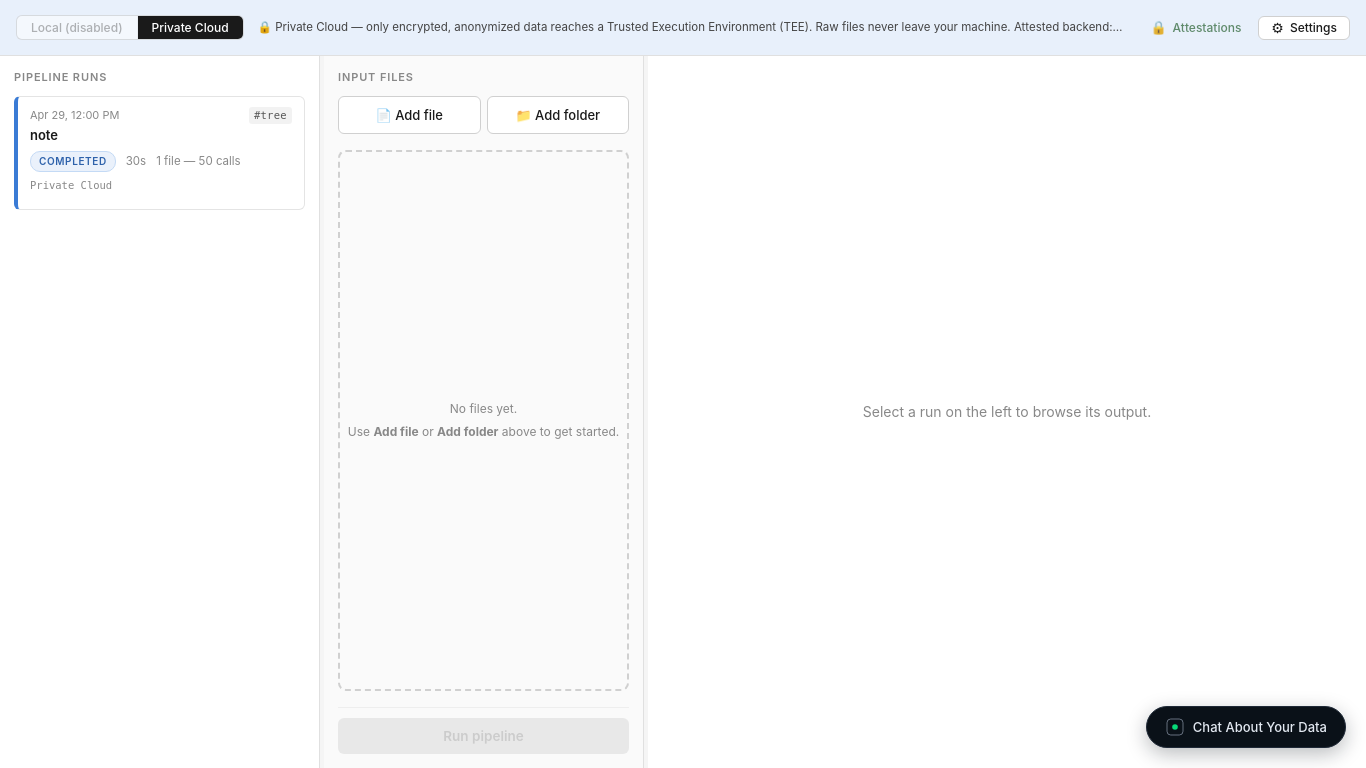
Test: App — run tree default-open + auto-open new dirs › a user-driven close persists across the next refresh
Expected: the text "Pipeline runs" is shown, [14,70,107,86]
Click the list item "note".
click(160, 153)  # box [14,96,305,210]
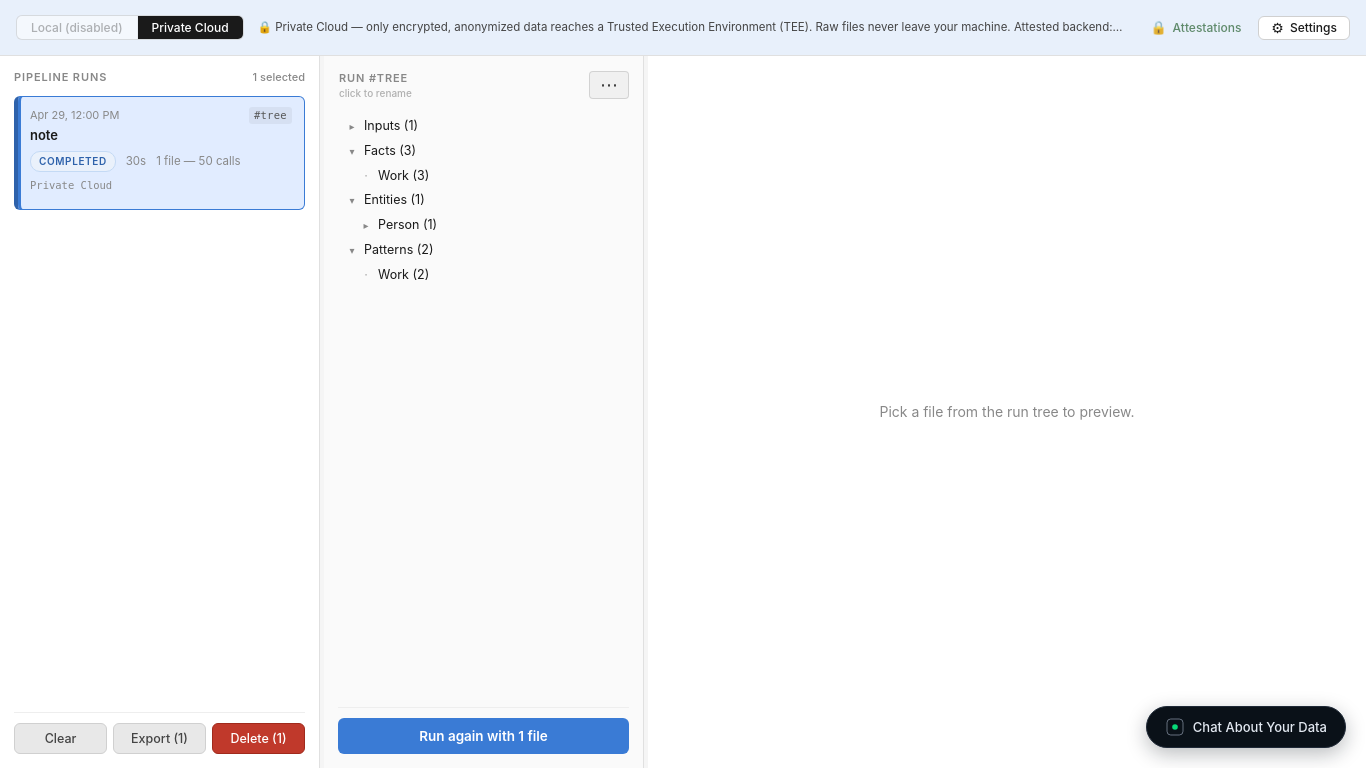
Result: the text "Work (3)" is shown at [378,168,429,182]
Click the text "Facts (3)".
click(383, 150)  # box [350,143,416,158]
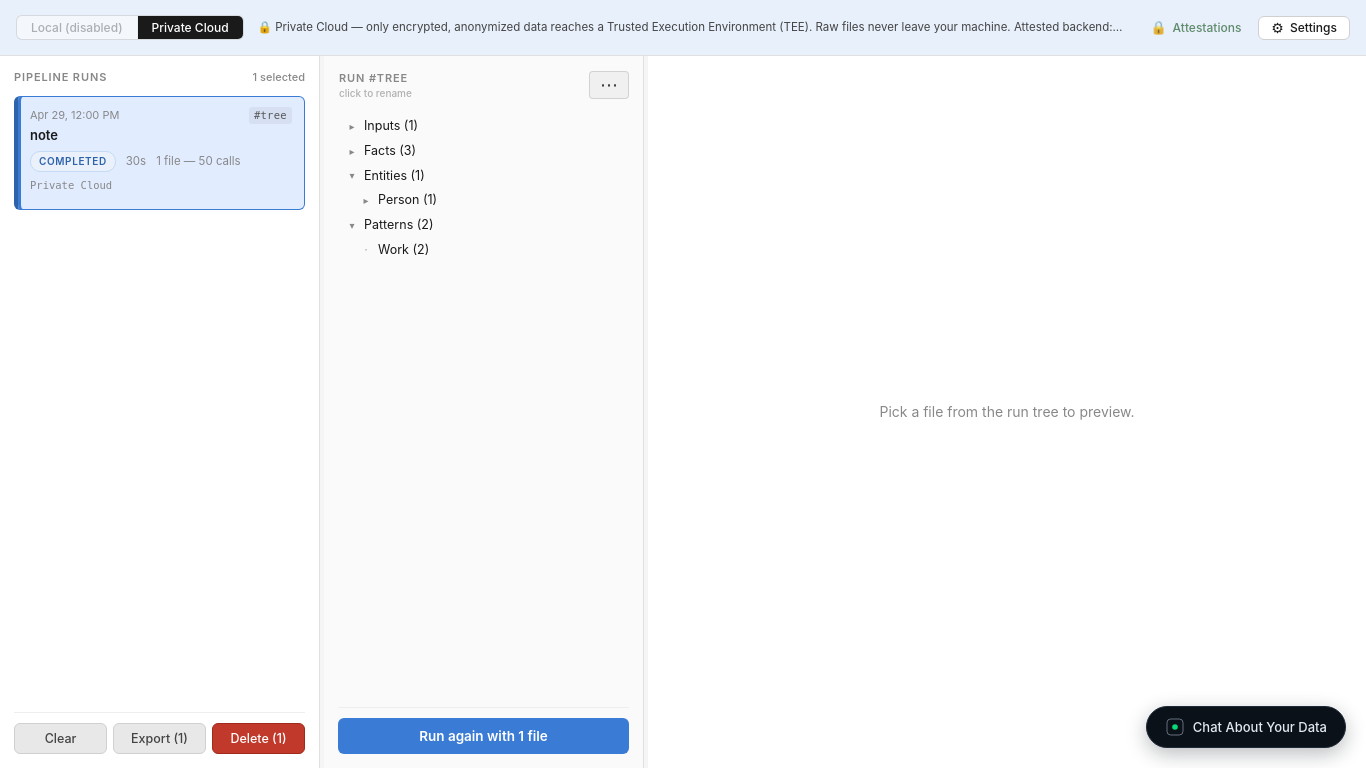
Result: the text "Person (1)" is shown at [378,192,437,207]
Result: the text "Work (3)" is gone
